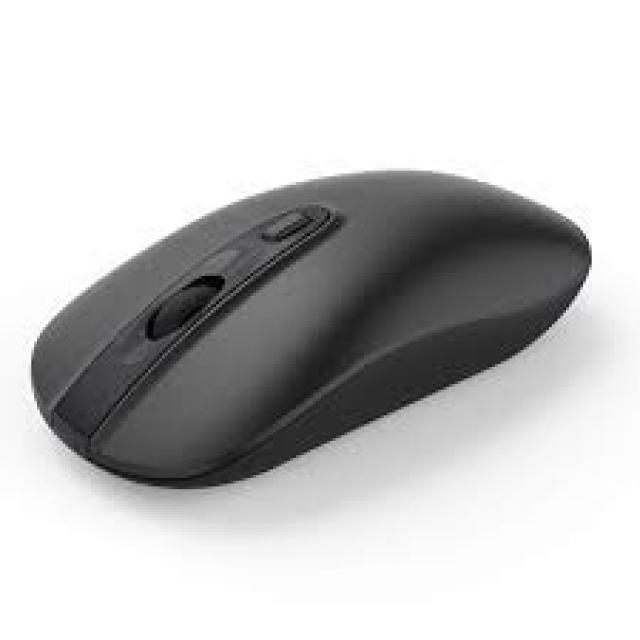others: (3, 156, 620, 486)
